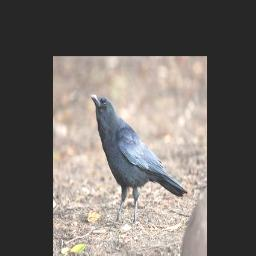Crow: (89, 94, 187, 228)
